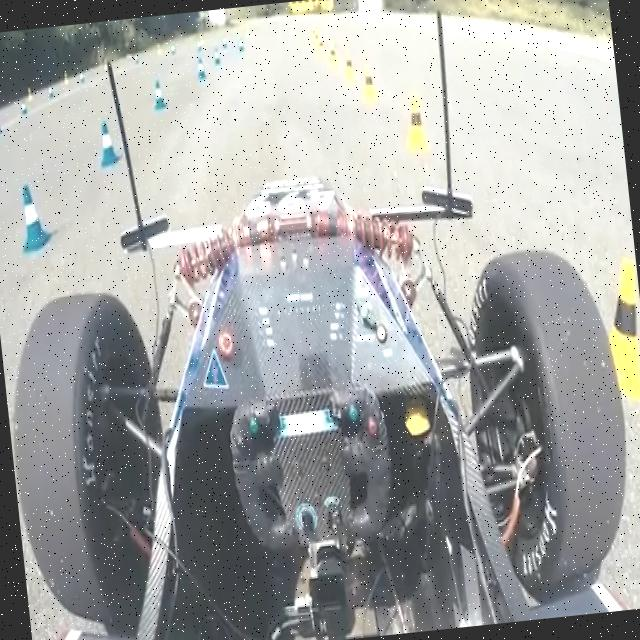blue_cone: (16, 182, 54, 253), (95, 121, 124, 170), (151, 77, 168, 109)
yellow_cone: (591, 255, 640, 406), (399, 92, 432, 154), (358, 62, 378, 103), (342, 49, 358, 80)
